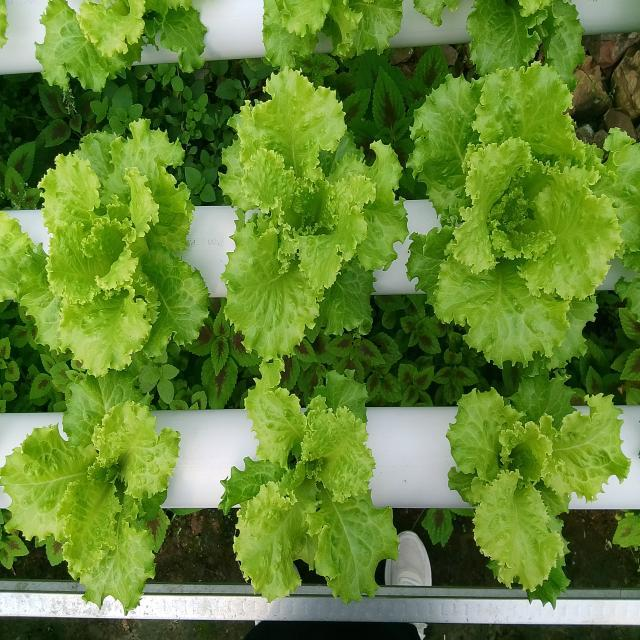Baby: (0, 119, 209, 403), (219, 68, 404, 372), (421, 370, 640, 615), (0, 370, 180, 610), (221, 388, 399, 604), (187, 481, 192, 486)
Mature: (408, 63, 638, 367)
